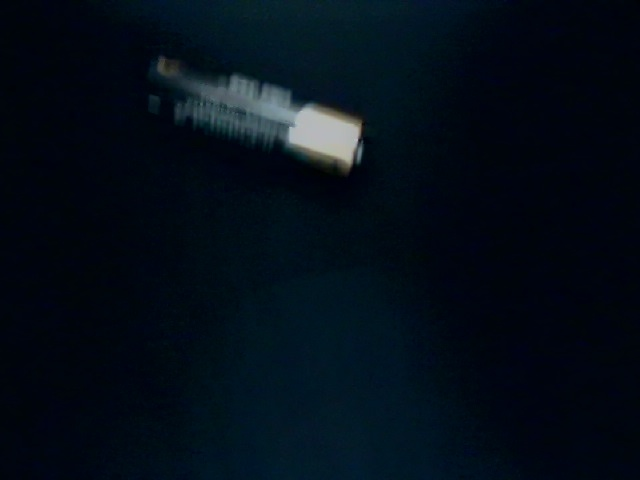YHLJ: (412, 270, 516, 480)
